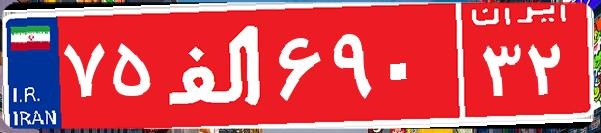0: (385, 28, 445, 110)
2: (525, 38, 570, 115)
3: (475, 38, 525, 113)
5: (110, 28, 158, 105)
6: (273, 28, 330, 110)
7: (57, 26, 110, 107)
9: (330, 28, 385, 110)
الف: (158, 15, 273, 115)
